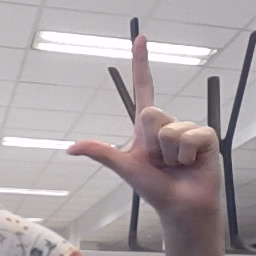L: (63, 31, 230, 212)
